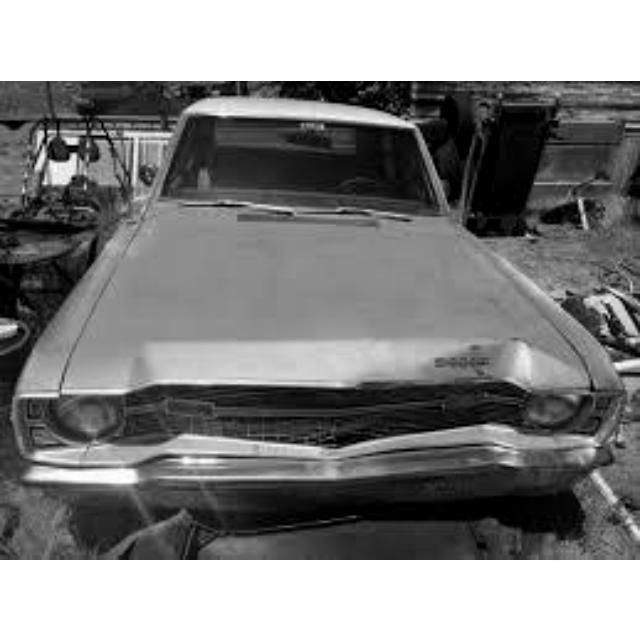bonnet-dent: (270, 224, 583, 401)
